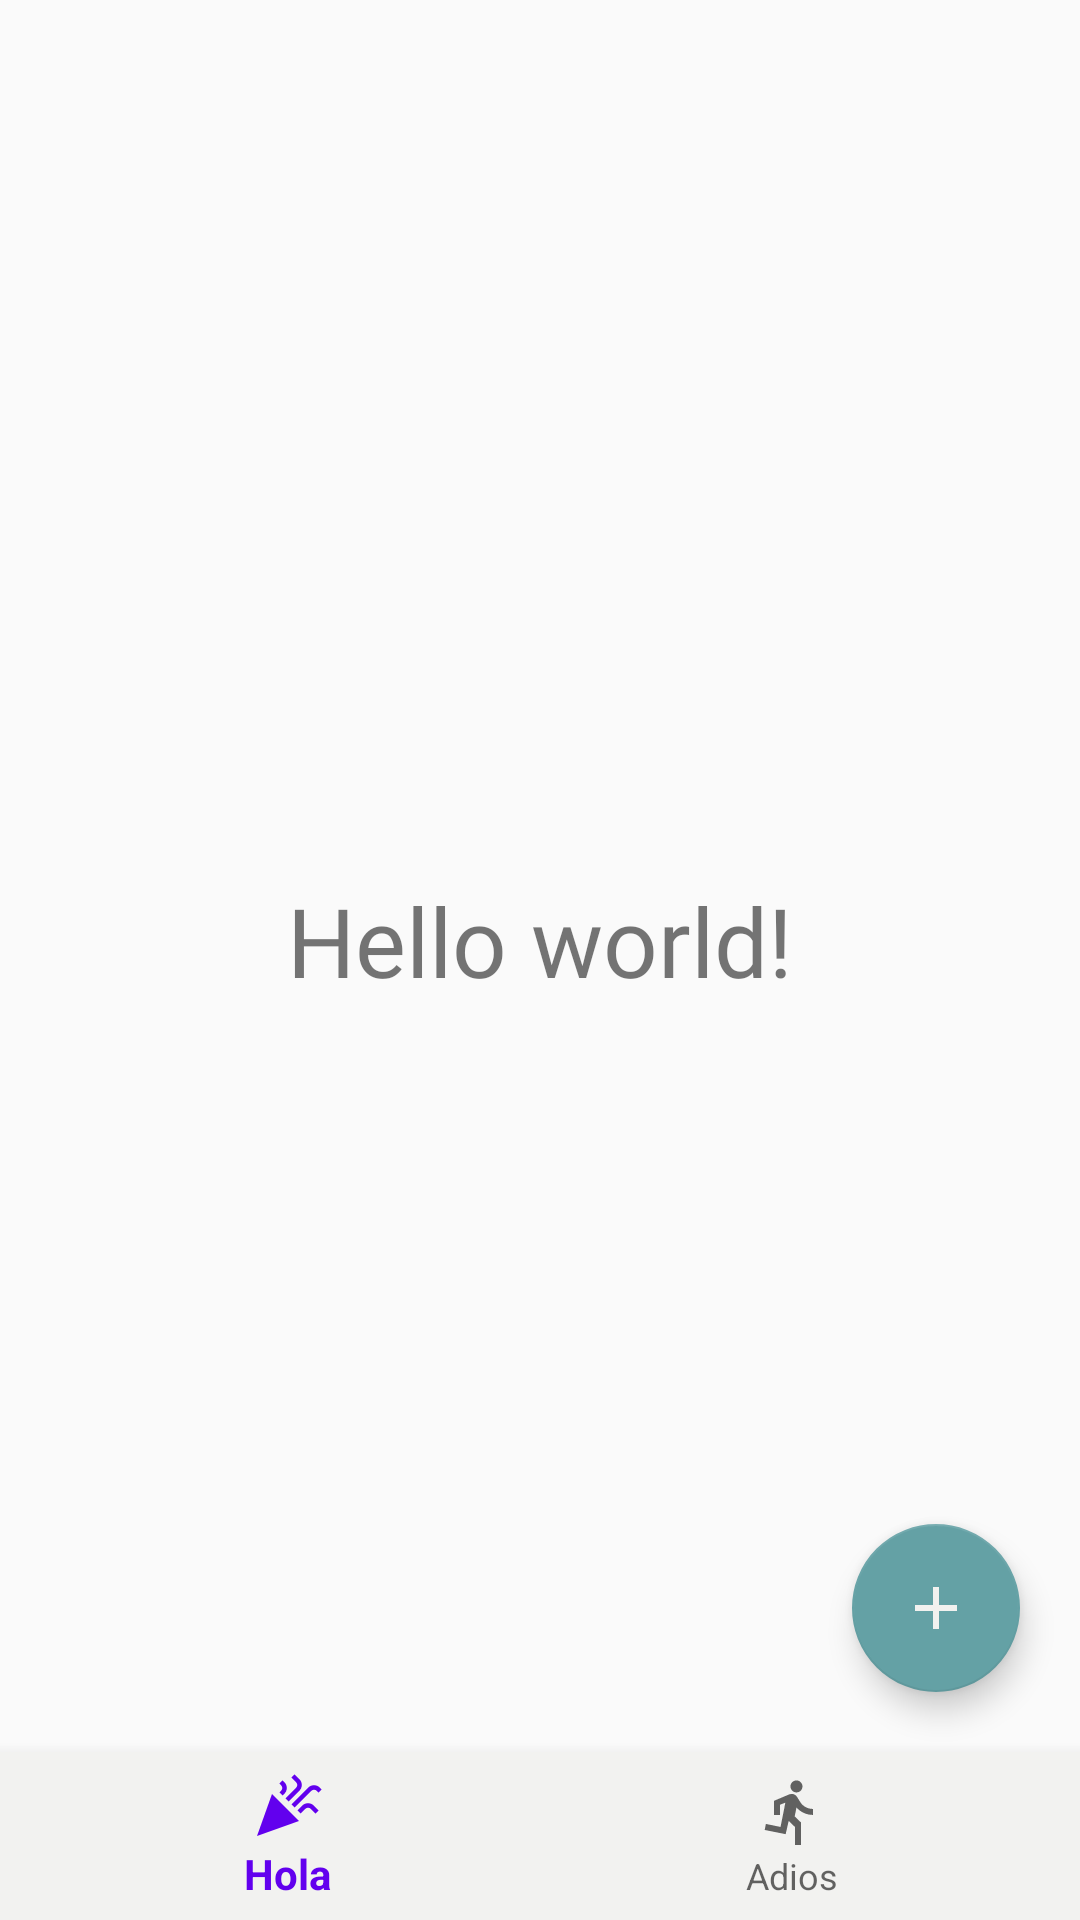

Icons on this 1080px x 1920px Android screen, each with its box as (x1, y1, x2, y2):
add: (852, 1524, 1020, 1692)
